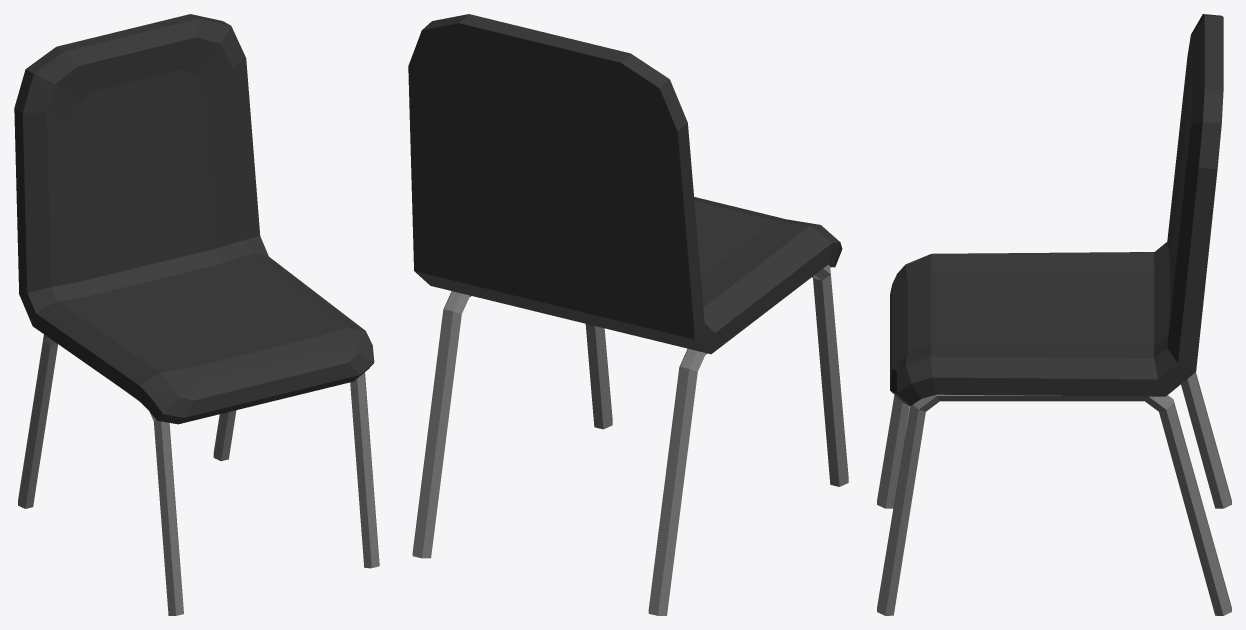
File: SM_Props_Interior_Generic_Office_Chair_06.fbx
The picture shows the model from 3 angles, left to right: view 1: azimuth 30°, elevation 25°; view 2: azimuth 150°, elevation 25°; view 3: azimuth 270°, elevation 25°; orthographic projection. The views are drawn at different scales.
Parts seen in each view (by area): view 1: SM_Props_Interior_Generic_Office_Chair_06; view 2: SM_Props_Interior_Generic_Office_Chair_06; view 3: SM_Props_Interior_Generic_Office_Chair_06.
Part boxes in pixels (x1=…): SM_Props_Interior_Generic_Office_Chair_06: x1=14, y1=14, x2=379, y2=615; SM_Props_Interior_Generic_Office_Chair_06: x1=408, y1=14, x2=848, y2=615; SM_Props_Interior_Generic_Office_Chair_06: x1=877, y1=14, x2=1231, y2=615.
Size of the model in its own units: 50 by 92.81 by 58.78.
